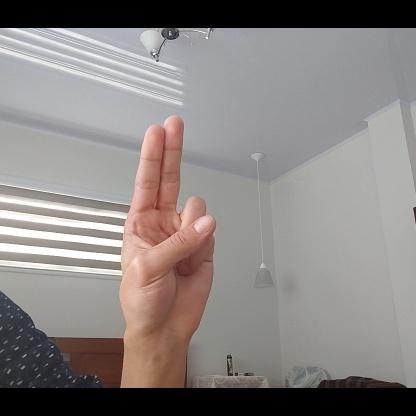U: (117, 117, 215, 349)
